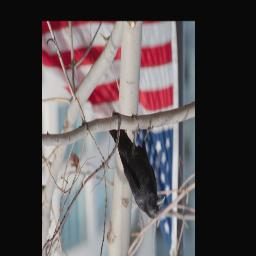Crow: (107, 116, 166, 220)
